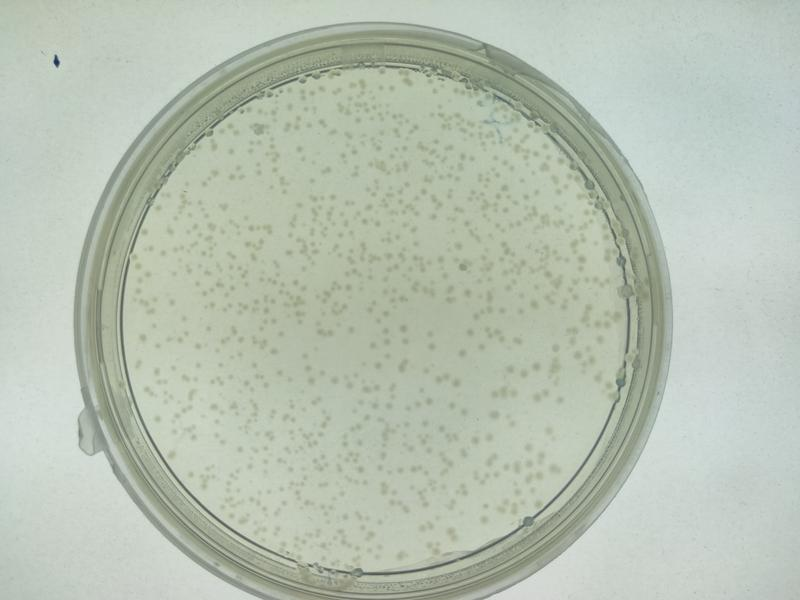colony: (394, 316, 413, 335), (274, 324, 292, 344), (485, 407, 505, 422), (547, 339, 564, 355), (305, 172, 320, 189), (453, 345, 471, 359), (297, 347, 313, 362), (291, 141, 307, 156), (552, 392, 567, 408), (327, 372, 342, 388), (345, 322, 360, 337), (518, 365, 531, 381), (423, 324, 437, 338), (462, 326, 477, 339), (268, 345, 283, 358), (259, 378, 274, 391), (398, 335, 413, 348), (423, 339, 437, 352), (272, 364, 285, 378), (367, 338, 379, 353), (231, 442, 245, 454)
